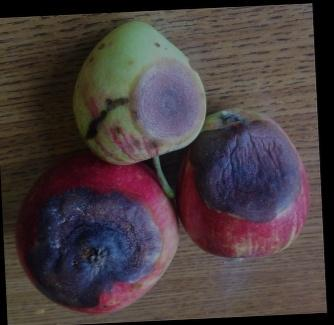rotten apple: (18, 157, 179, 315), (177, 105, 312, 266), (74, 18, 209, 163)
